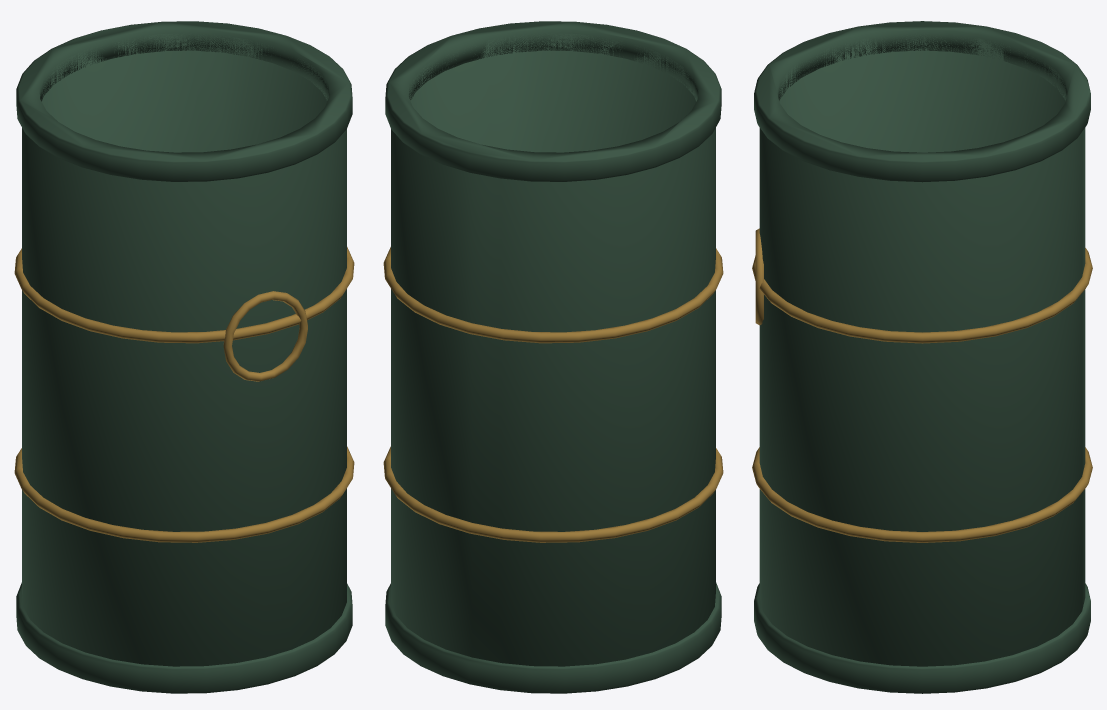
The model's file is asset_099_umbrella_stand.glb.
The picture shows the model from 3 angles, left to right: view 1: azimuth 30°, elevation 25°; view 2: azimuth 150°, elevation 25°; view 3: azimuth 270°, elevation 25°; orthographic projection.
Parts seen in each view (by area): view 1: MESH_StandWall, MESH_StandRim, MESH_StandBase, MESH_StandBand_0, MESH_StandBand_1, MESH_StandCrest; view 2: MESH_StandWall, MESH_StandRim, MESH_StandBase, MESH_StandBand_0, MESH_StandBand_1; view 3: MESH_StandWall, MESH_StandRim, MESH_StandBase, MESH_StandBand_0, MESH_StandBand_1, MESH_StandCrest.
Part boxes in pixels (bbox=[...]): MESH_StandWall: bbox=[22, 33, 346, 666]; MESH_StandRim: bbox=[16, 21, 352, 181]; MESH_StandBase: bbox=[16, 582, 352, 693]; MESH_StandBand_0: bbox=[14, 446, 354, 542]; MESH_StandBand_1: bbox=[14, 247, 354, 343]; MESH_StandCrest: bbox=[223, 291, 307, 381]; MESH_StandWall: bbox=[391, 33, 715, 666]; MESH_StandRim: bbox=[385, 21, 721, 181]; MESH_StandBase: bbox=[385, 582, 721, 693]; MESH_StandBand_0: bbox=[383, 446, 723, 542]; MESH_StandBand_1: bbox=[383, 247, 723, 343]; MESH_StandWall: bbox=[759, 33, 1085, 666]; MESH_StandRim: bbox=[754, 21, 1090, 182]; MESH_StandBase: bbox=[754, 583, 1090, 693]; MESH_StandBand_0: bbox=[752, 447, 1092, 542]; MESH_StandBand_1: bbox=[752, 248, 1092, 343]; MESH_StandCrest: bbox=[755, 228, 763, 325].
Size of the model in its own units: 0.356 by 0.62 by 0.356.
